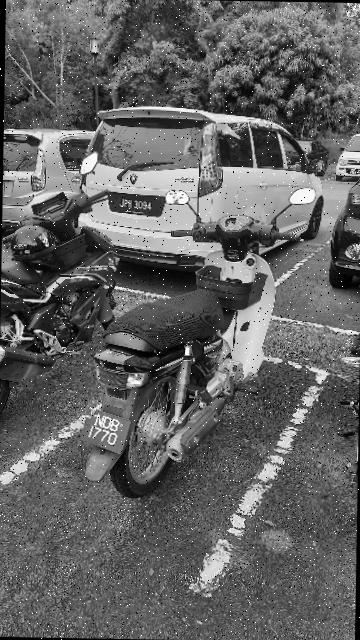License_Plate: (81, 406, 134, 457)
car: (81, 102, 330, 275), (3, 115, 139, 240)
motorcycle: (86, 179, 324, 504), (1, 139, 124, 437)
